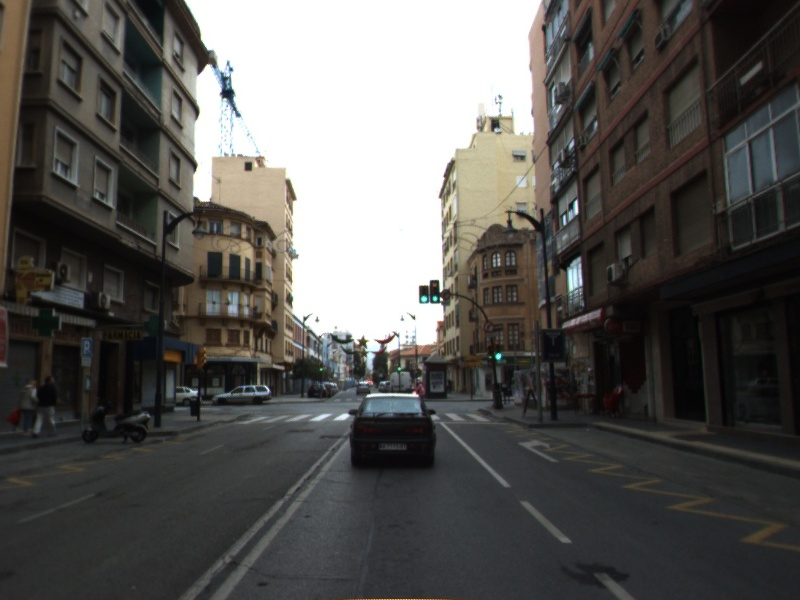RIGHT: (517, 437, 561, 464)
